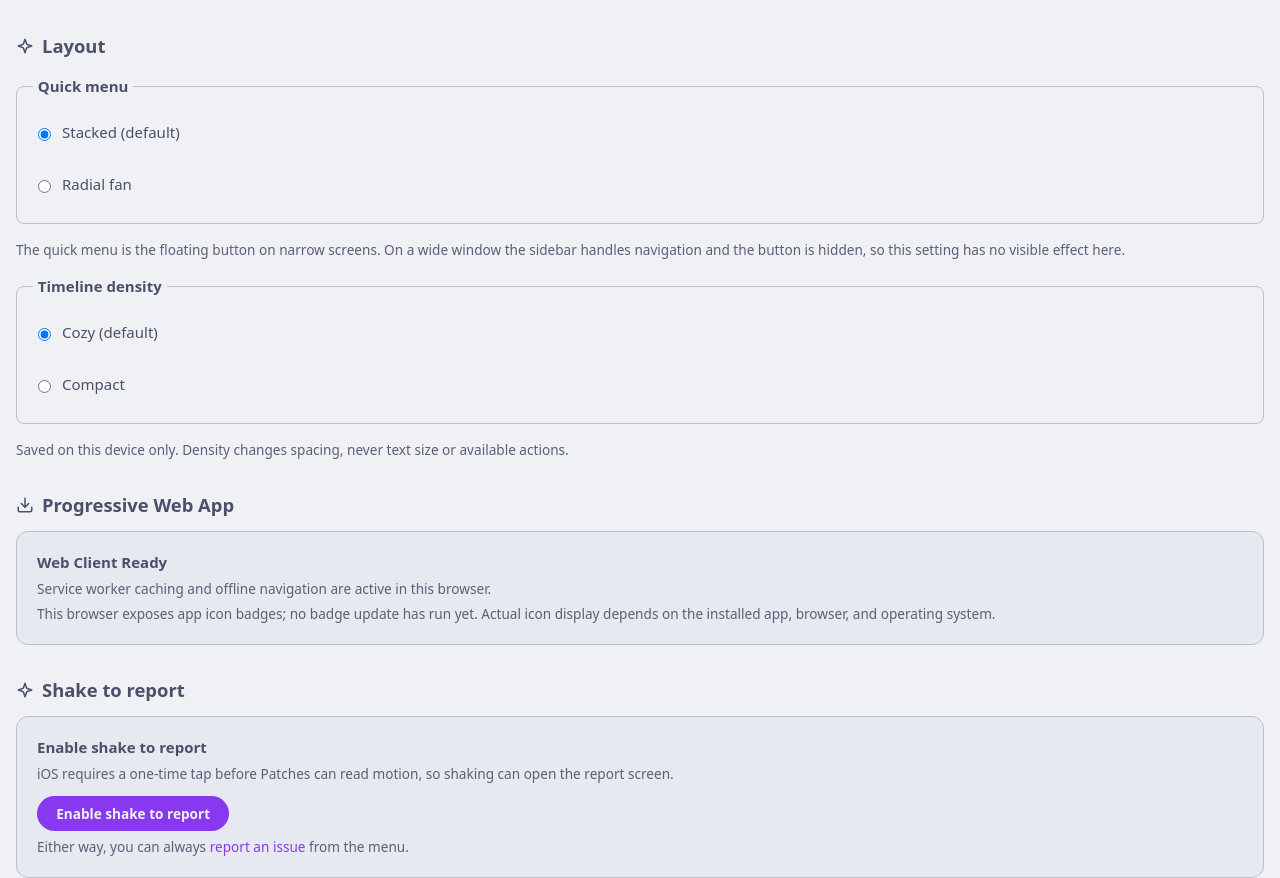
Test: AppearanceSettingsRoute › honestly reports a granted permission as enabled
(page scrolled)
Click the button "Enable shake to report": click(133, 814) [37,796,229,831]
(page scrolled)
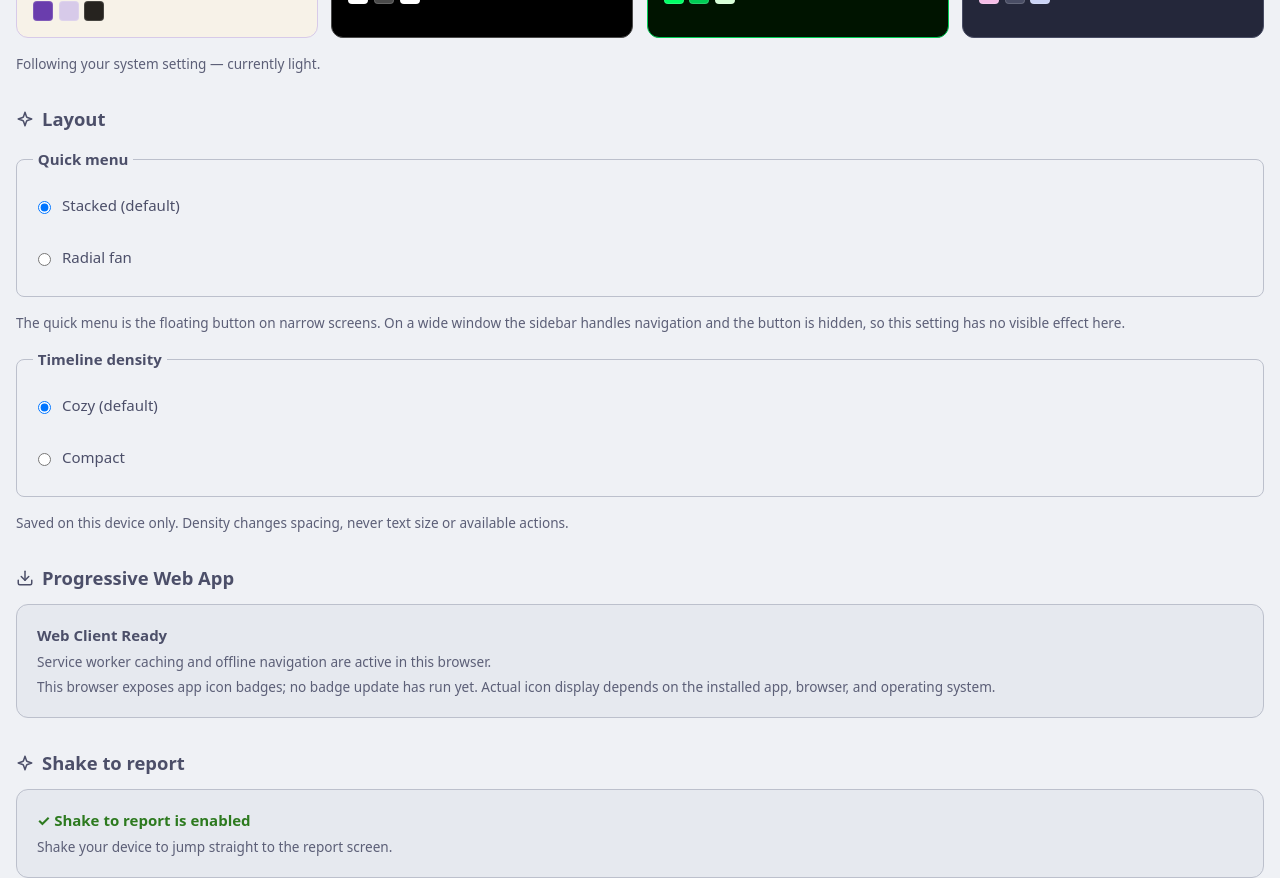
Expected: the text "✓ Shake to report is enabled" is shown, [37,810,251,830]
